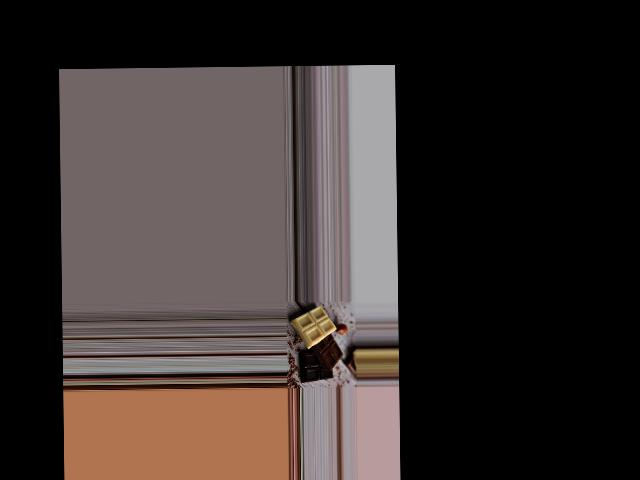chocolate: (294, 305, 343, 386)
